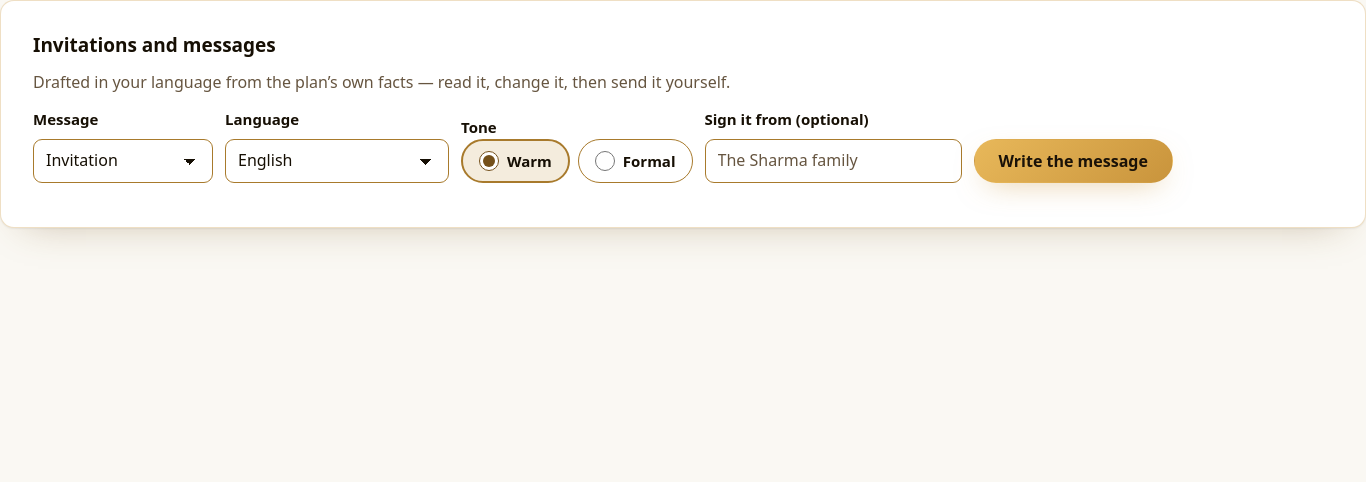
Test: MessageStudio › names the vendor for an enquiry
The image size is (1366, 482).
Select "Vendor enquiry" in the dropdown labelled "Message" at {"x": 123, "y": 161}, box [33,139,213,183]
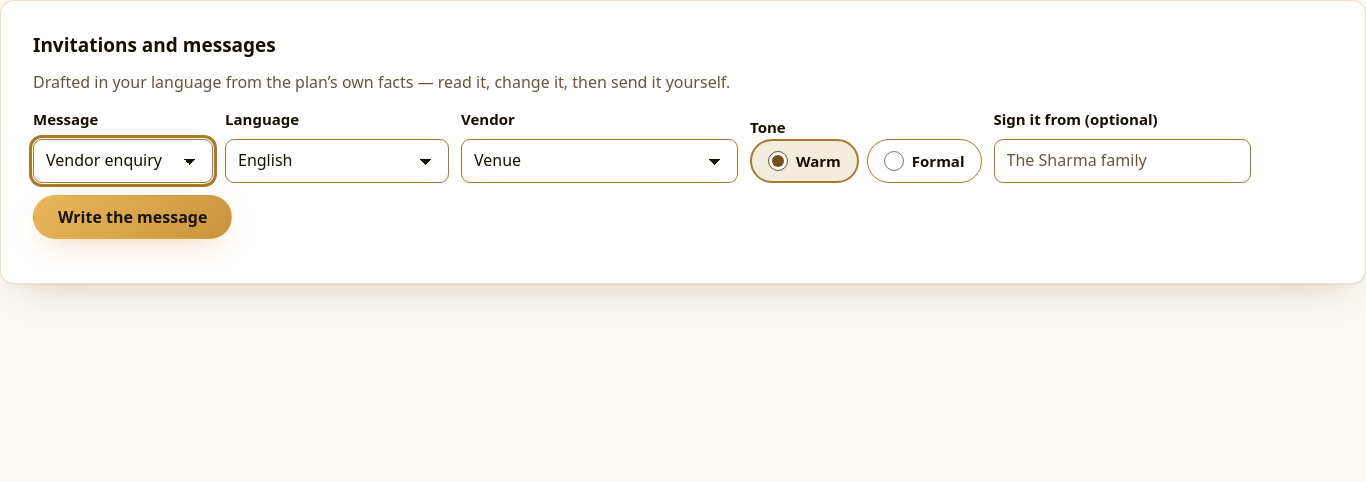
expect the dropdown labelled "Vendor" shows "Venue": met, box [461,139,738,183]
Click the button "Write the message" at {"x": 133, "y": 217}, box [33,195,232,239]
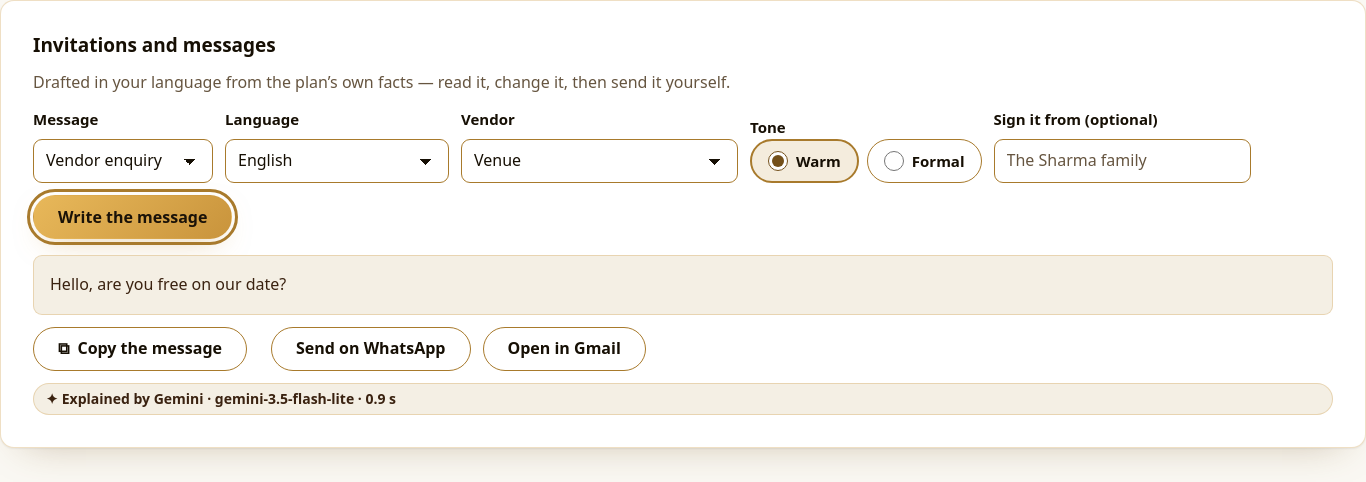
expect the text "Hello, are you free on our date?" is shown: met, box [33,255,1333,315]
